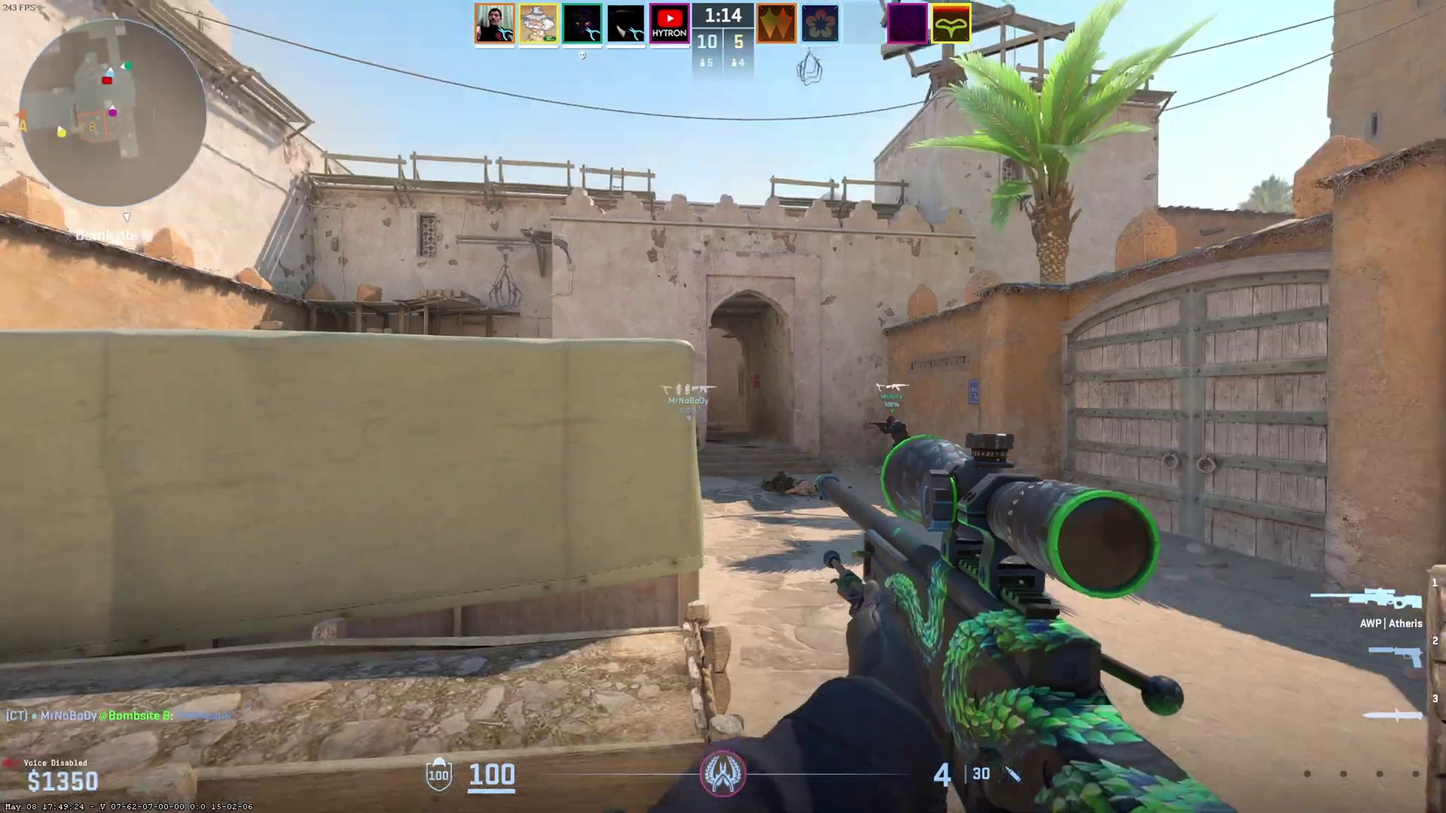CT: (884, 416, 908, 447)
